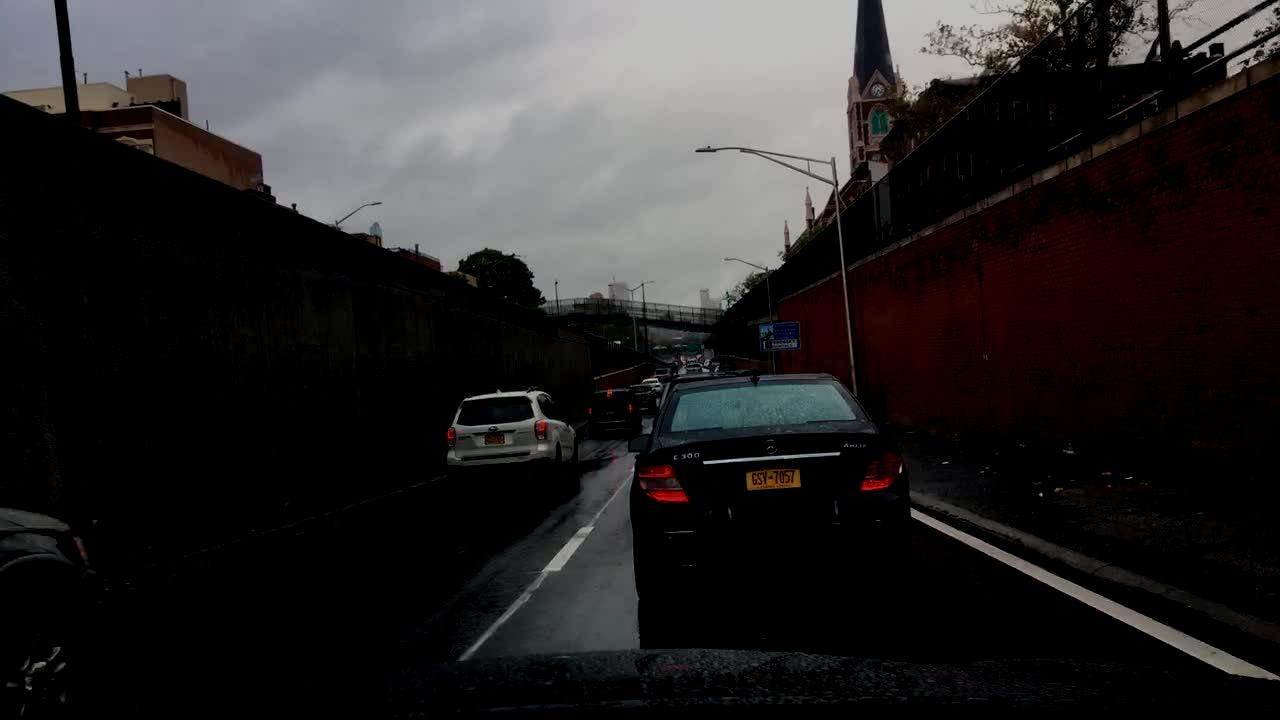Mercedes: (758, 437, 788, 457)
